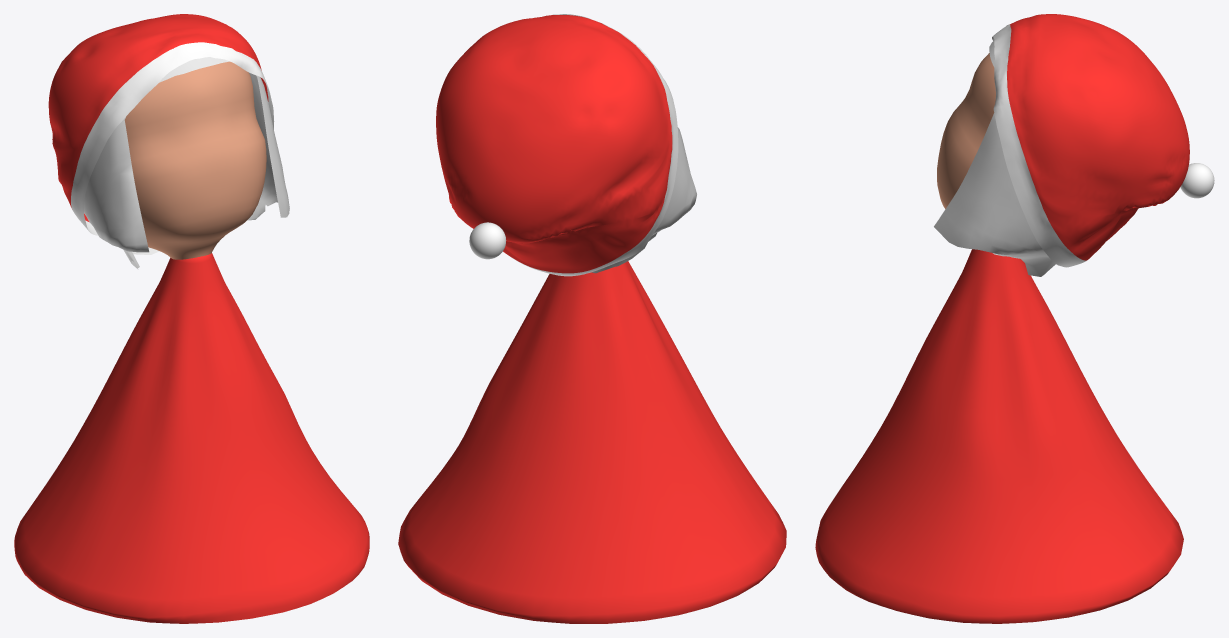
Rendered from Character.fbx.
The picture shows the model from 3 angles, left to right: view 1: azimuth 30°, elevation 25°; view 2: azimuth 150°, elevation 25°; view 3: azimuth 270°, elevation 25°; orthographic projection. The views are drawn at different scales.
Visible parts, largest first — view 1: Sphere.001; view 2: Sphere.001; view 3: Sphere.001.
Boxes of the visible parts, <box> form: Sphere.001: <box>14,14,369,623</box>; Sphere.001: <box>398,14,786,623</box>; Sphere.001: <box>815,14,1214,623</box>.
Bounding box in the file's own units: 96.69 × 148 × 104.
